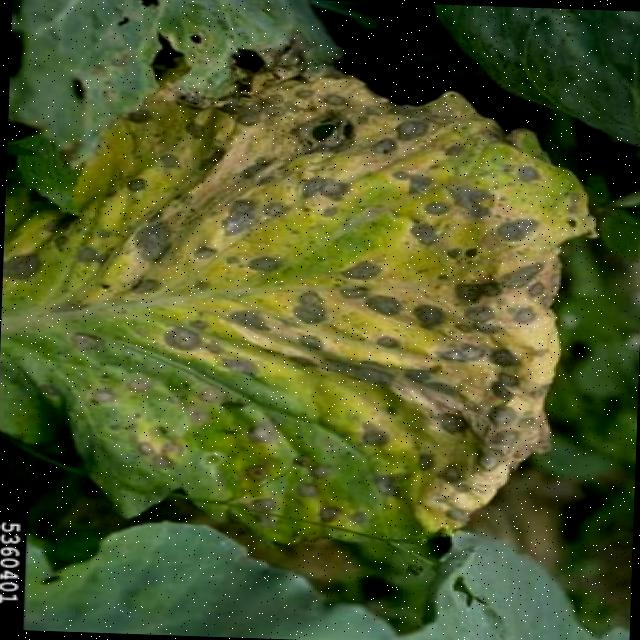Viral: (96, 148, 534, 470)
